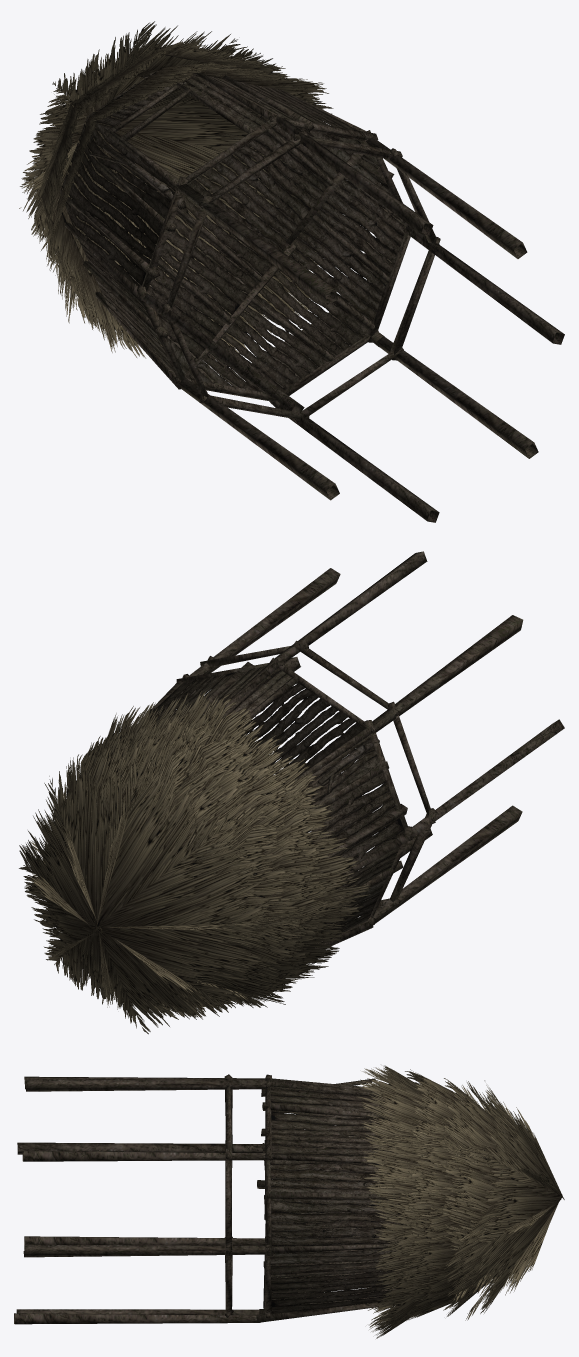
The model's file is MEP_Shack_05.fbx.
The picture shows the model from 3 angles, top to bottom: view 1: azimuth 30°, elevation 25°; view 2: azimuth 150°, elevation 25°; view 3: azimuth 270°, elevation 25°; orthographic projection. The views are drawn at different scales.
Parts seen in each view (by area): view 1: MEP_Shack_05; view 2: MEP_Shack_05; view 3: MEP_Shack_05.
Part boxes in pixels (x1=…): MEP_Shack_05: x1=19, y1=21, x2=564, y2=522; MEP_Shack_05: x1=19, y1=551, x2=564, y2=1034; MEP_Shack_05: x1=14, y1=1065, x2=564, y2=1338.
Size of the model in its own units: 6.56 by 6.43 by 12.57.
